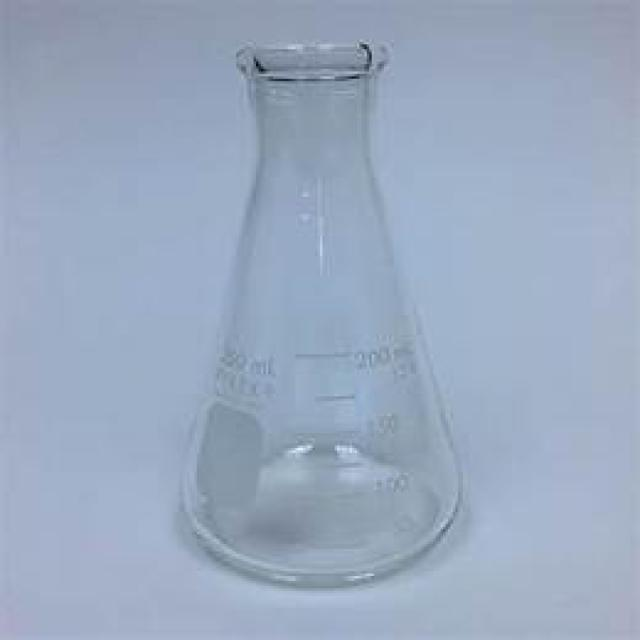Titrarion: (162, 48, 465, 578)
